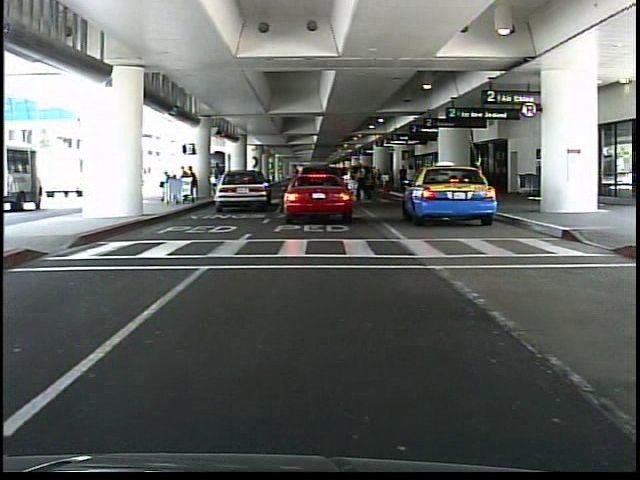person: (210, 160, 227, 204), (405, 165, 419, 200), (398, 162, 409, 198), (342, 169, 352, 201), (364, 161, 365, 201)
